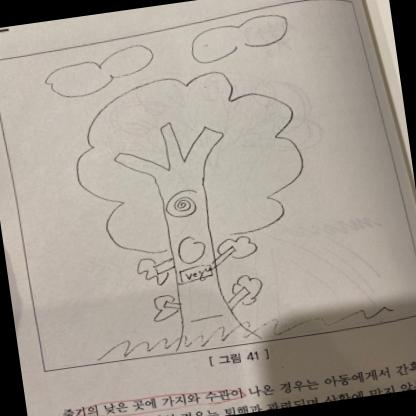branch_cut: (110, 116, 228, 188)
crown_cloud: (65, 61, 312, 260)
knot: (162, 188, 202, 219)
trunk_straight: (170, 242, 238, 330)
